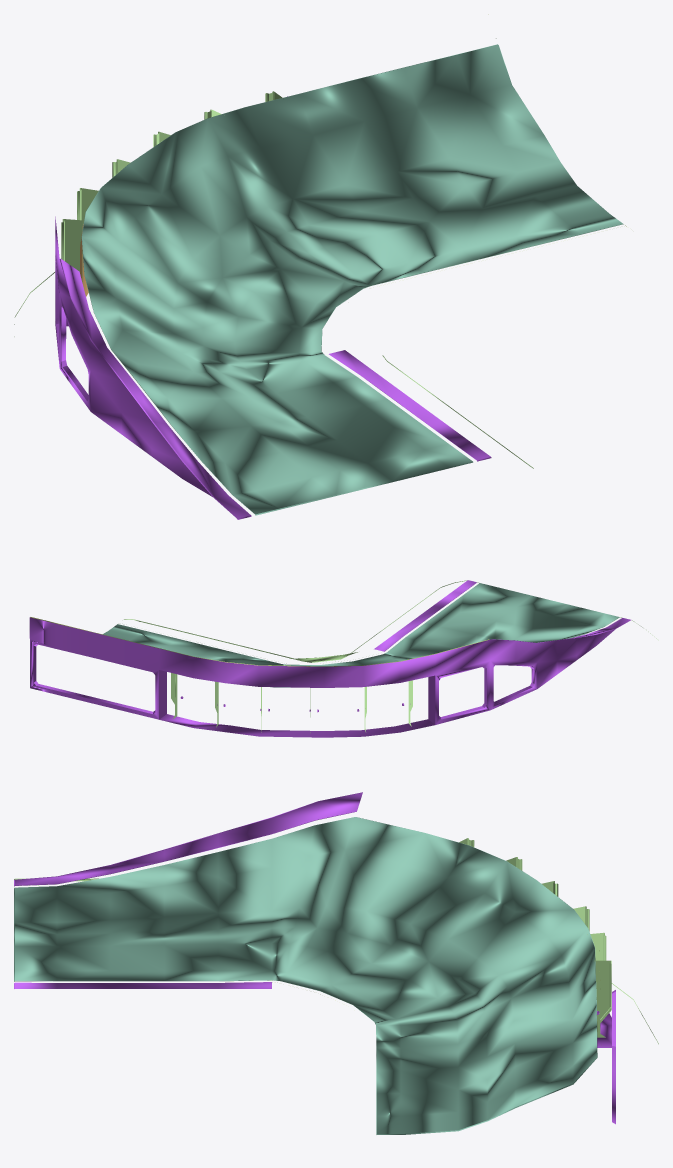
The model's file is RaceTrack_grunge_discount_prop_uee_15.glb.
3 renders of one model, top to bottom at view 1: azimuth 30°, elevation 25°; view 2: azimuth 150°, elevation 25°; view 3: azimuth 270°, elevation 25°, orthographic. The views are drawn at different scales.
Bounding box in the file's own units: 15 × 2.99 × 15.
